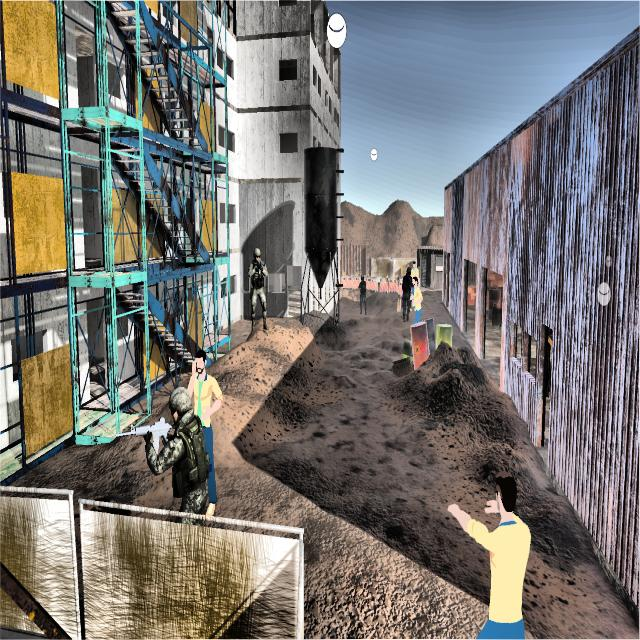bad: (145, 382, 214, 524), (246, 238, 272, 343), (399, 261, 412, 318), (357, 268, 369, 317)
good: (444, 453, 535, 640), (187, 341, 229, 518), (409, 274, 425, 329), (411, 254, 420, 283)
